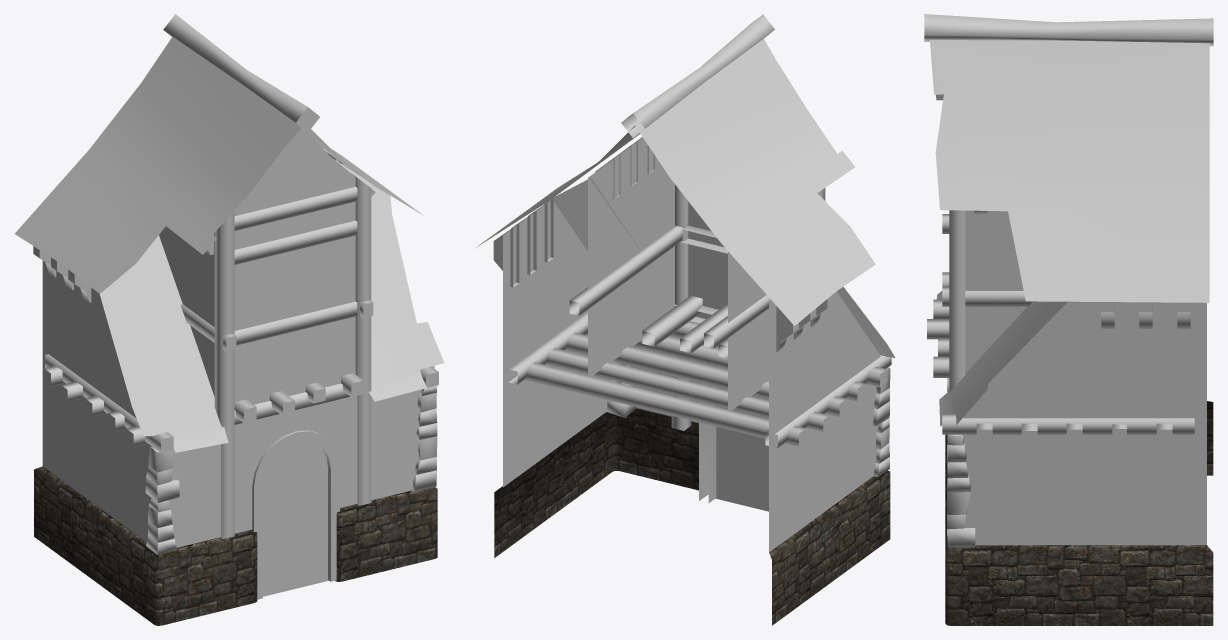
Rendered from Addon1_LOD1.fbx.
The picture shows the model from 3 angles, left to right: view 1: azimuth 30°, elevation 25°; view 2: azimuth 150°, elevation 25°; view 3: azimuth 270°, elevation 25°; orthographic projection. The views are drawn at different scales.
Parts seen in each view (by area): view 1: polySurface2551; view 2: polySurface2551; view 3: polySurface2551.
Boxes of the visible parts, x1=… form: polySurface2551: x1=14, y1=14, x2=444, y2=625; polySurface2551: x1=476, y1=14, x2=895, y2=625; polySurface2551: x1=924, y1=14, x2=1213, y2=625.
Size of the model in its own units: 9.65 by 13.86 by 6.77.
